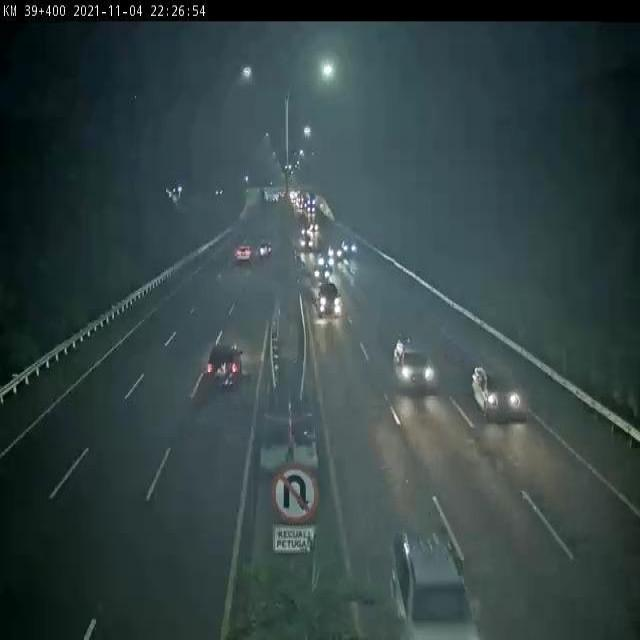car: (391, 522, 480, 640), (472, 365, 524, 424), (394, 335, 437, 393), (207, 348, 244, 385), (319, 283, 342, 317), (312, 259, 331, 284)
